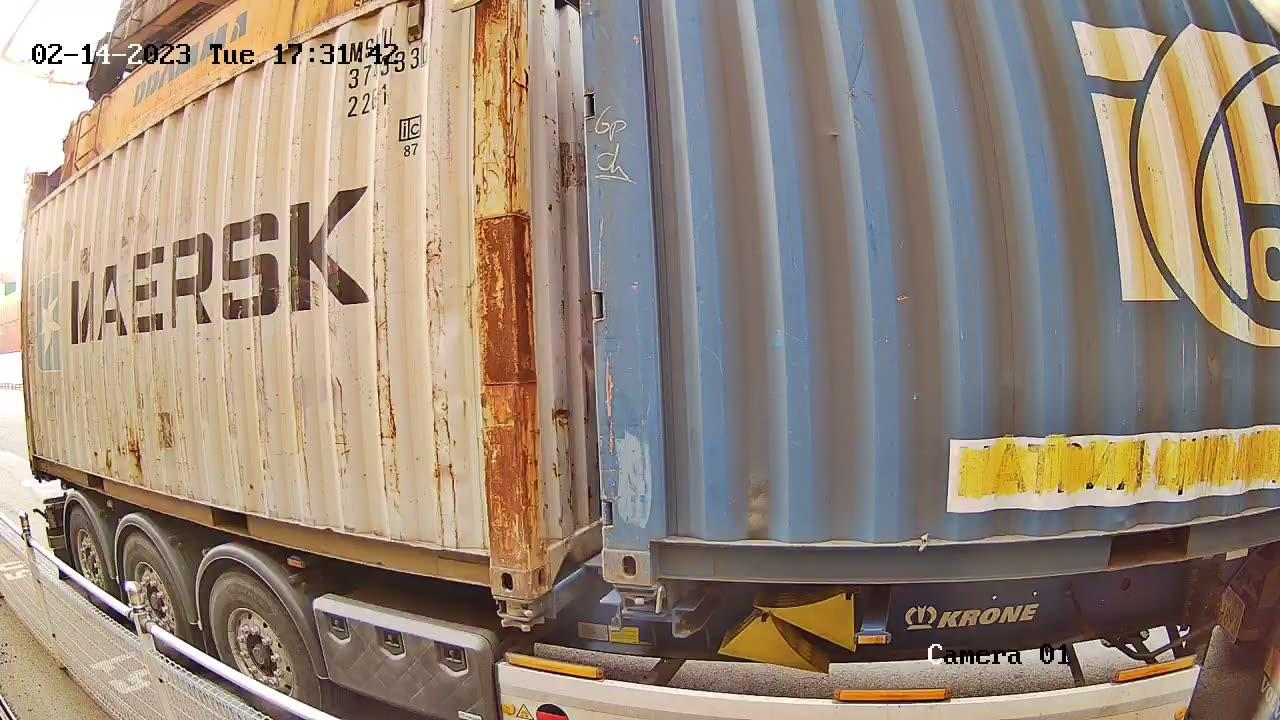Cone: (605, 586, 666, 619), (497, 598, 548, 632)
Hole_L: (604, 511, 688, 584), (526, 514, 576, 601)
Hole_R: (453, 524, 531, 600)
Tire: (210, 573, 321, 716), (123, 535, 194, 668), (70, 510, 114, 606)
